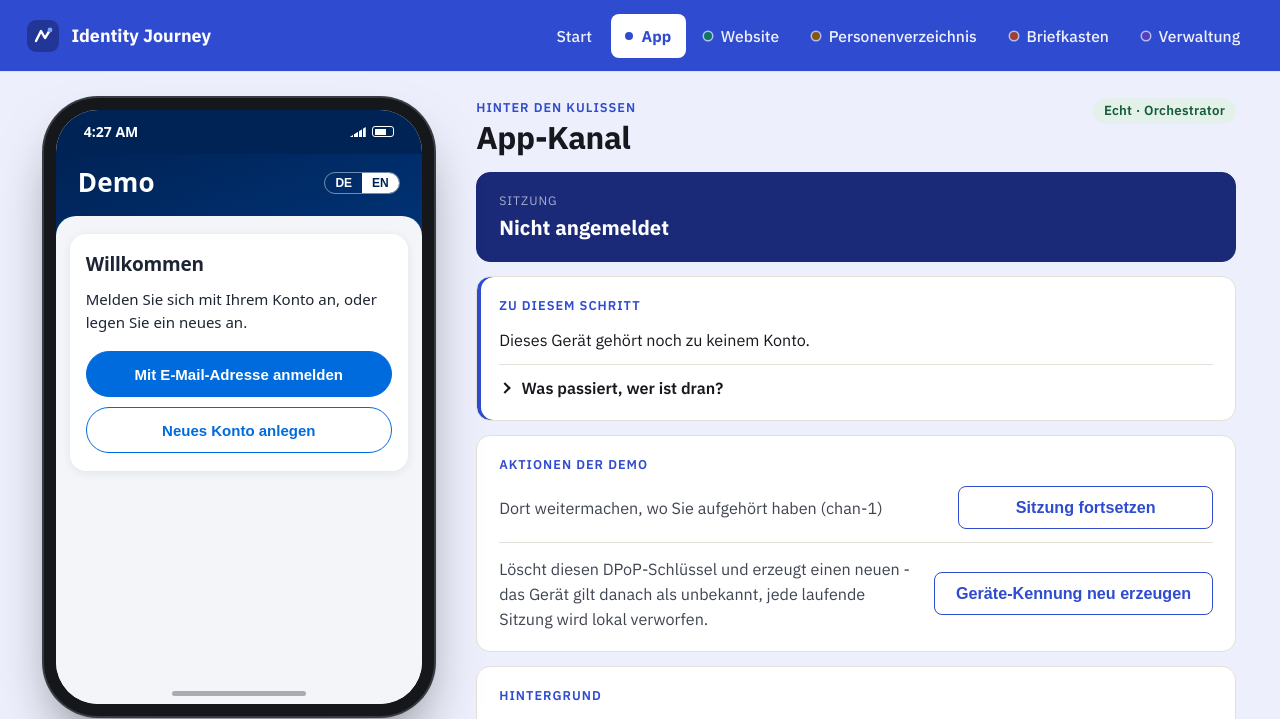
Test case: resume mid-tool (docs/05-api.md #1: next.toolSessionId) › reuses the running ToolSession instead of reactivating the tool
Click the button "Sitzung fortsetzen".
click(1086, 508)  # box [958,486,1213,529]
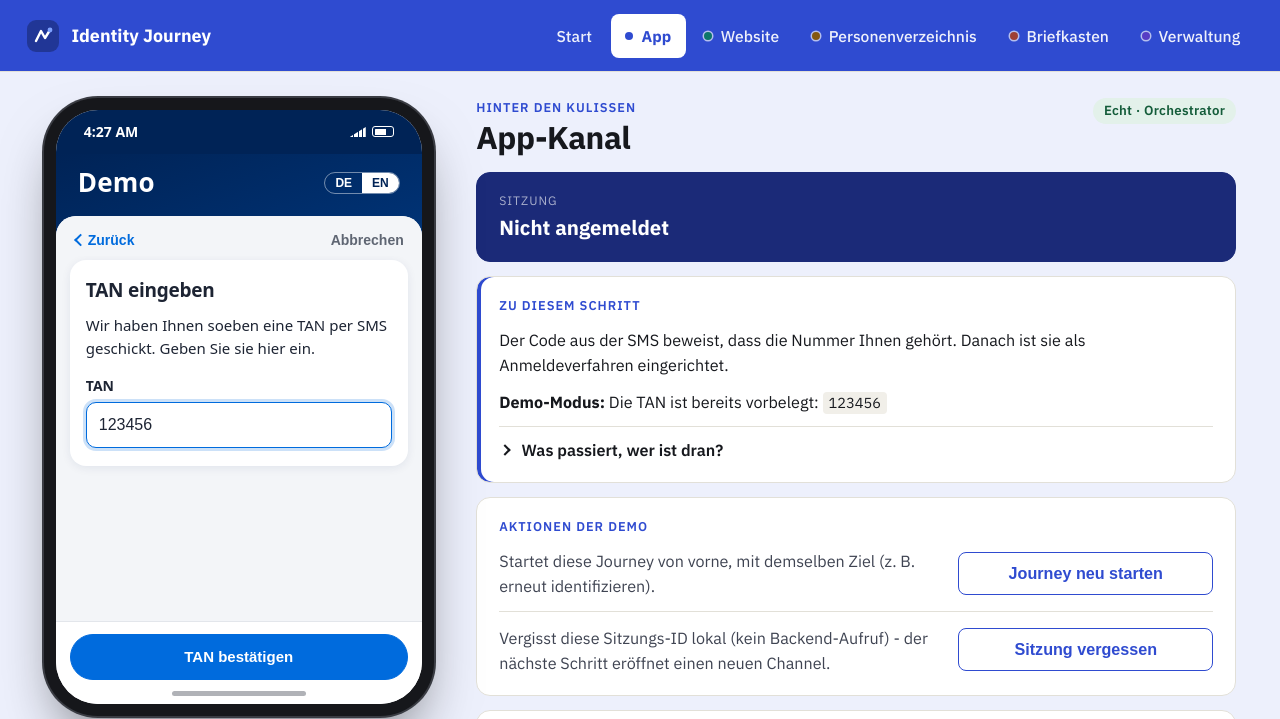
Expected: the heading "TAN eingeben" is shown, [86,277,215,303]
